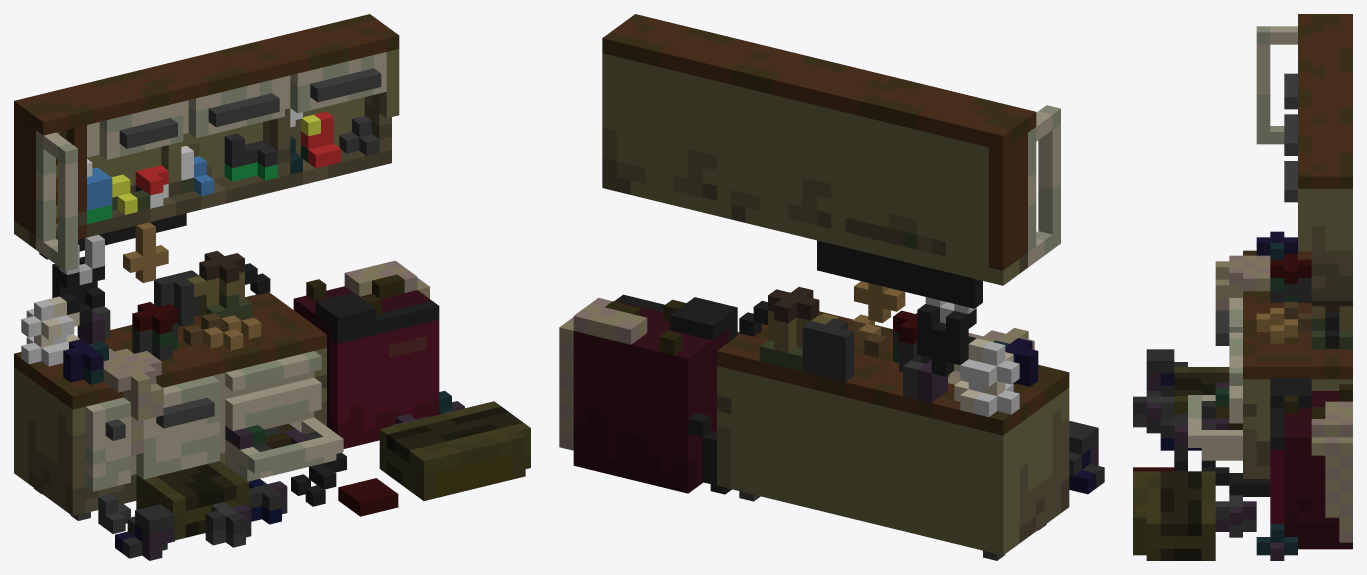
File: Kitchen.obj
3 views of the same model, side by side, from view 1: azimuth 30°, elevation 25°; view 2: azimuth 150°, elevation 25°; view 3: azimuth 270°, elevation 25° (orthographic). The views are drawn at different scales.
Size of the model in its own units: 3.2 by 2.9 by 1.6.
1 material, 1 textured.
